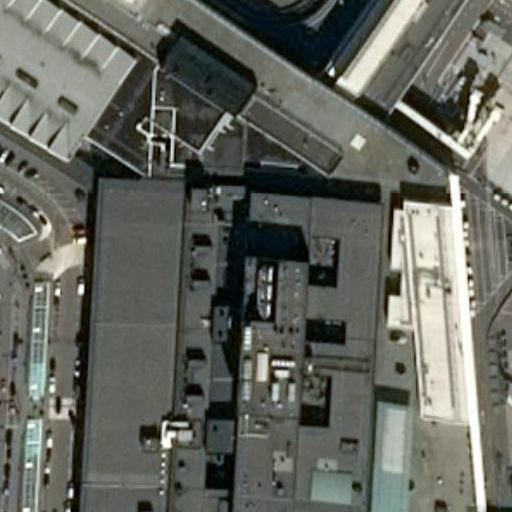Aircraft: (498, 335, 512, 512)
